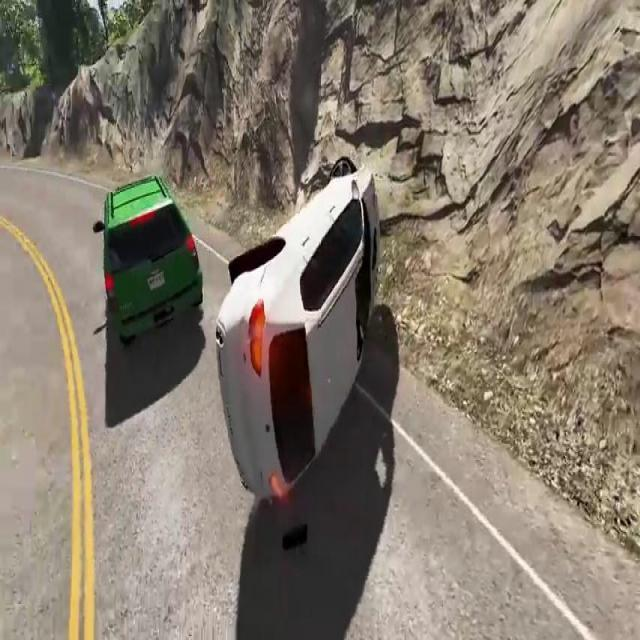high-cars-accident: (213, 174, 377, 639)
